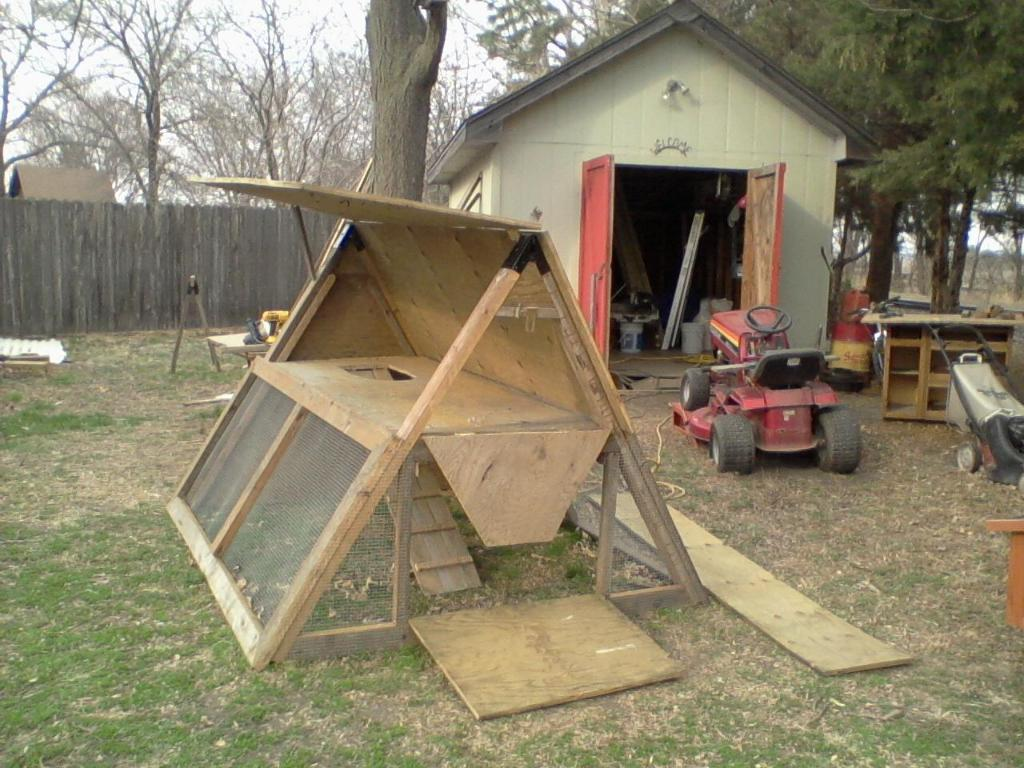Car: (669, 302, 864, 476)
